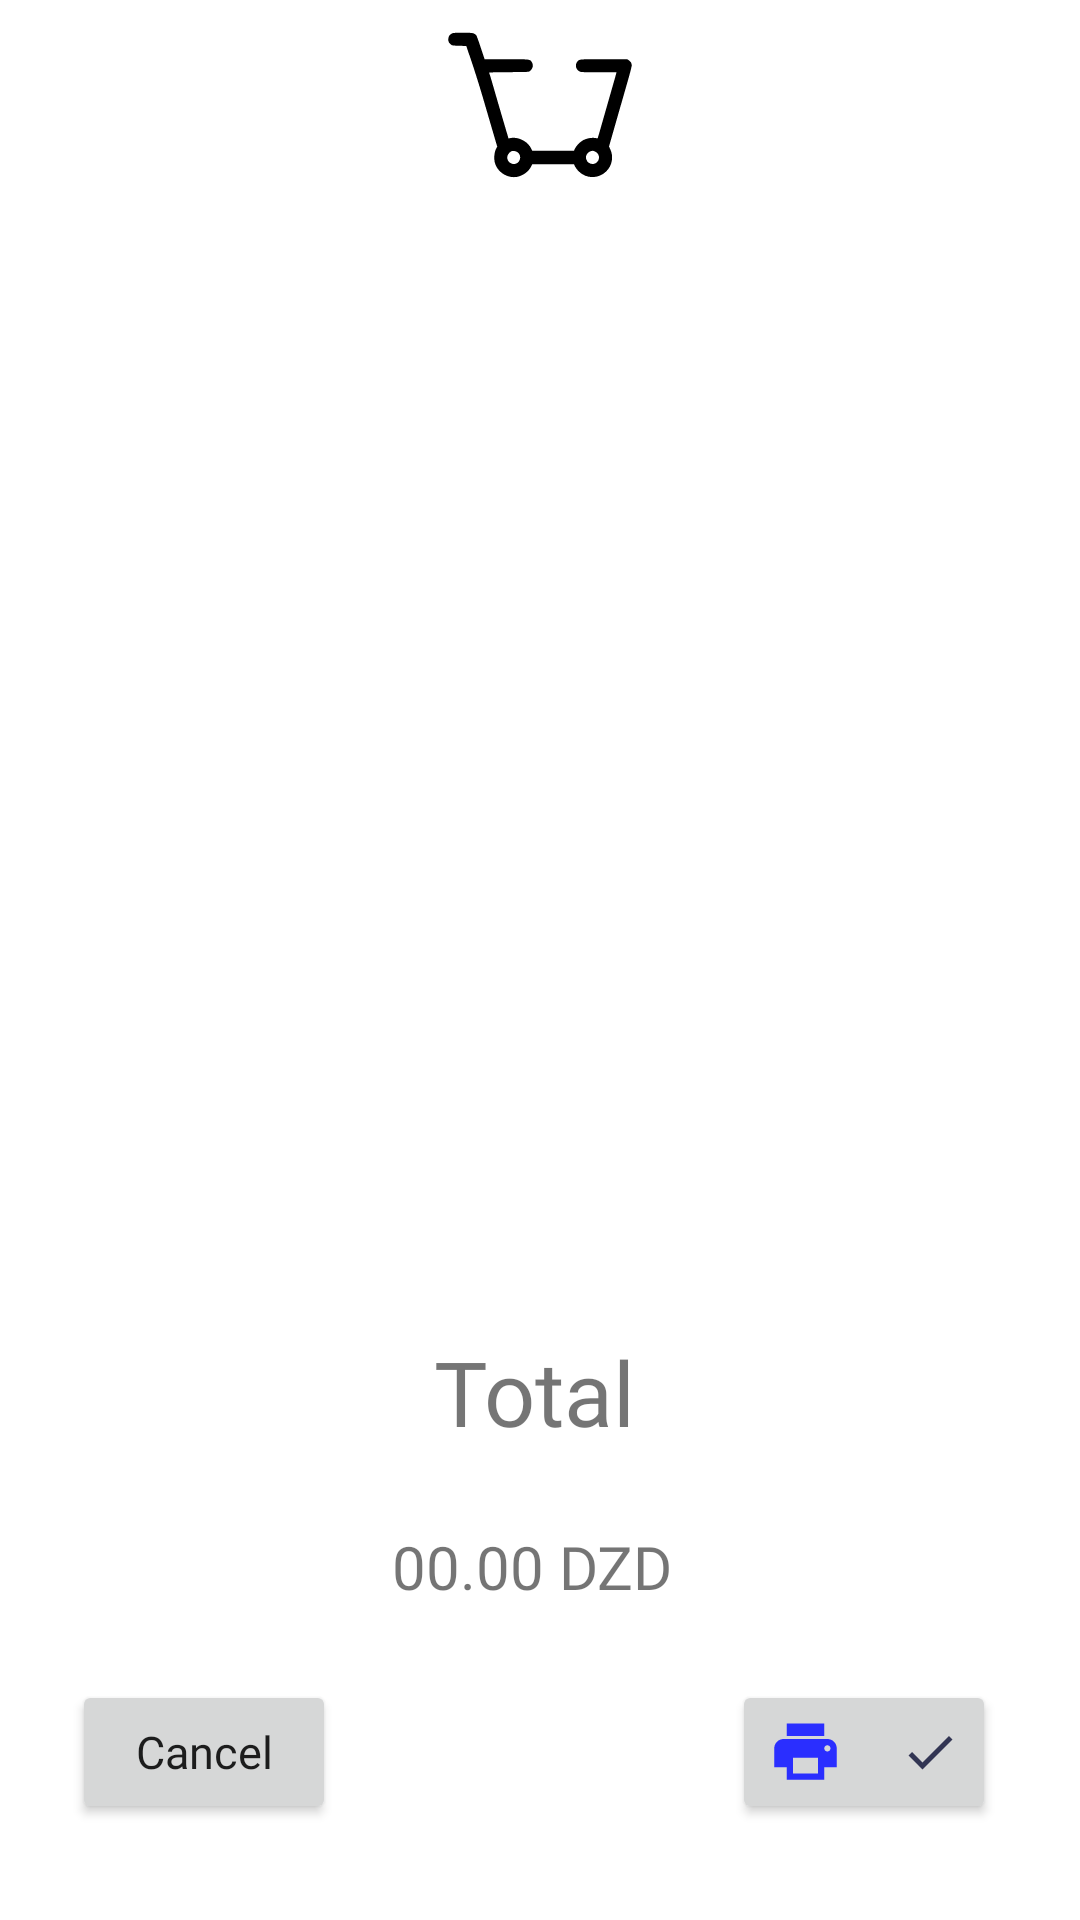

Locate icon controls on the screen. Image size 1080 × 1920, boxes as [x1=x1, y1=y1, x2=x2, y2=y2].
cart dialog: [x1=448, y1=32, x2=632, y2=178]
